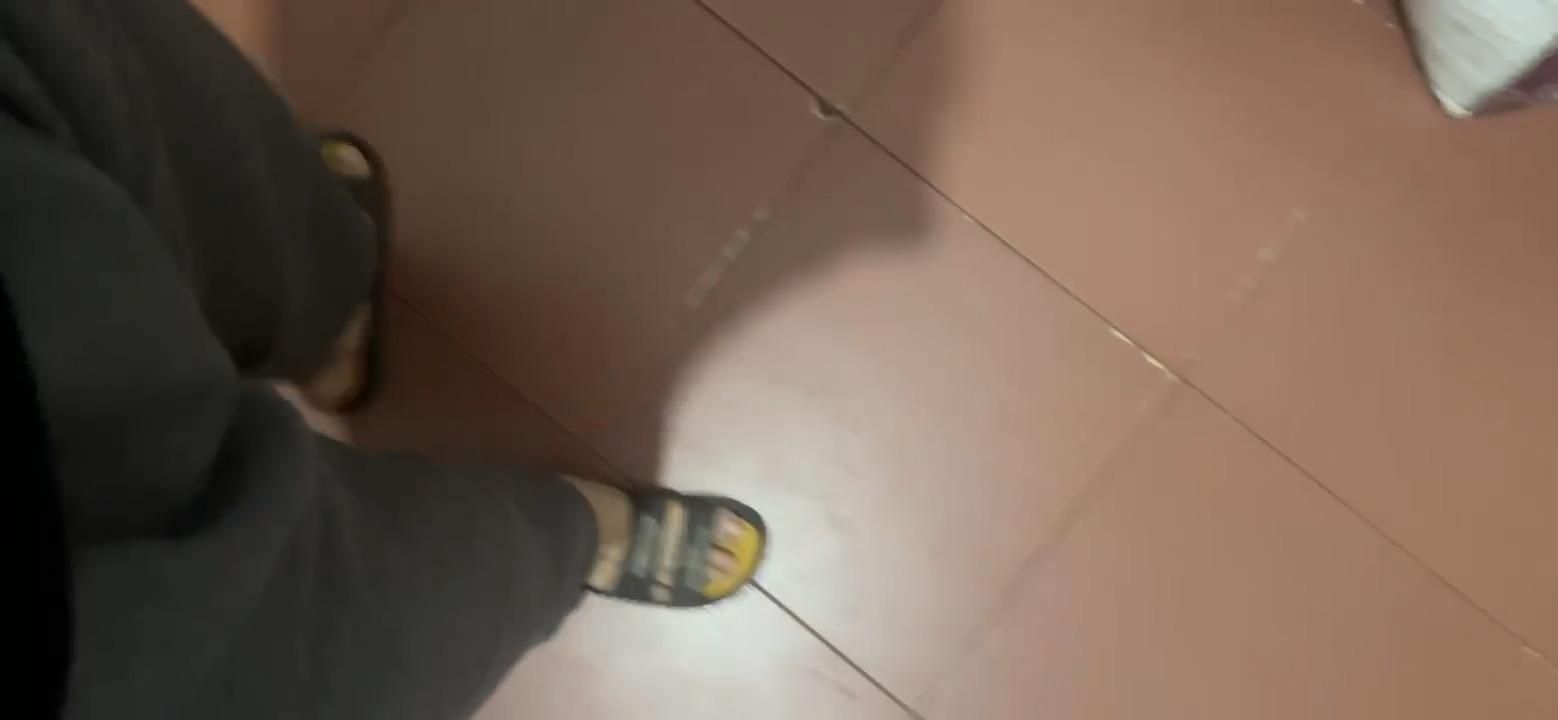no-boot: (521, 425, 760, 619)
